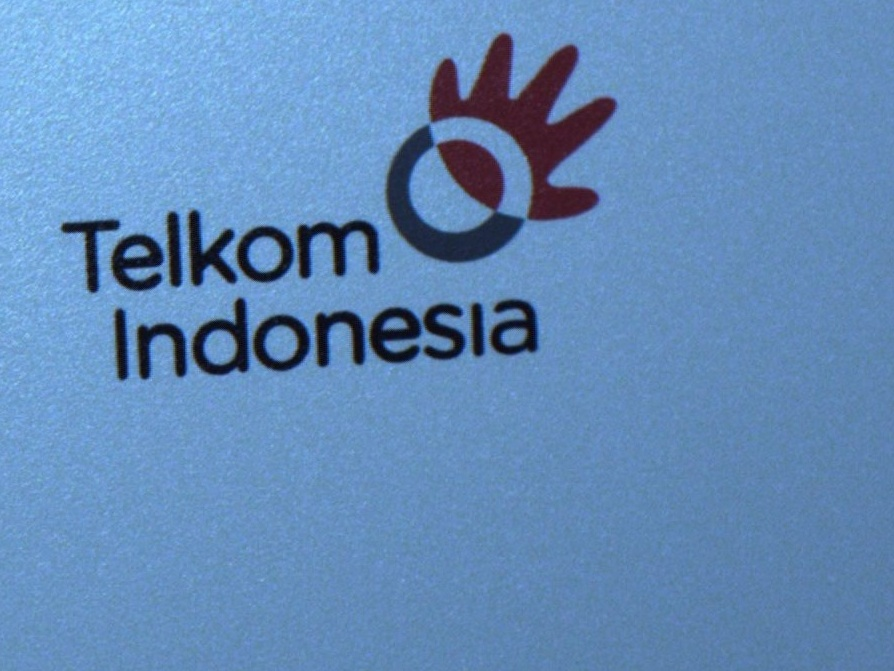BQ_IndonTelkom: (49, 30, 618, 388)
